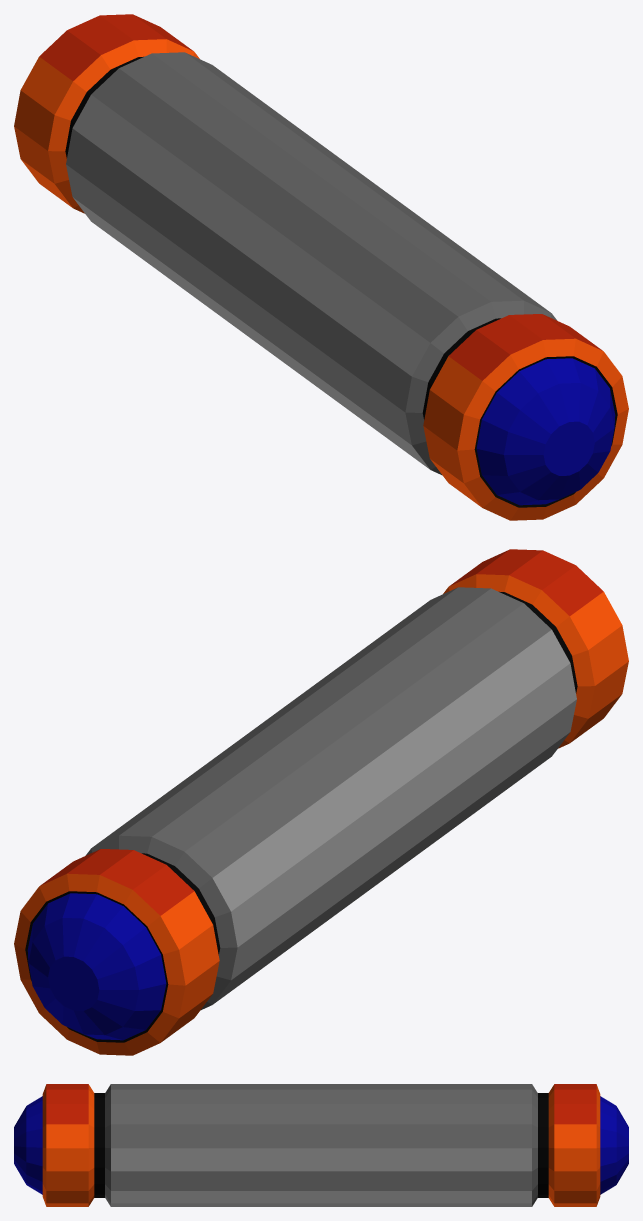
File: paddle_escape.glb
3 renders of one model, top to bottom at view 1: azimuth 30°, elevation 25°; view 2: azimuth 150°, elevation 25°; view 3: azimuth 270°, elevation 25°, orthographic. The views are drawn at different scales.
Visible parts, largest first — view 1: 0paddle; view 2: 0paddle; view 3: 0paddle.
Boxes of the visible parts, box(x1,y1,x2,y2) form: 0paddle: box(14, 14, 628, 520); 0paddle: box(14, 549, 628, 1055); 0paddle: box(14, 1084, 628, 1206).
Bounding box in the file's own units: 0.06 × 0.06 × 0.3.
1 material, 1 textured.
